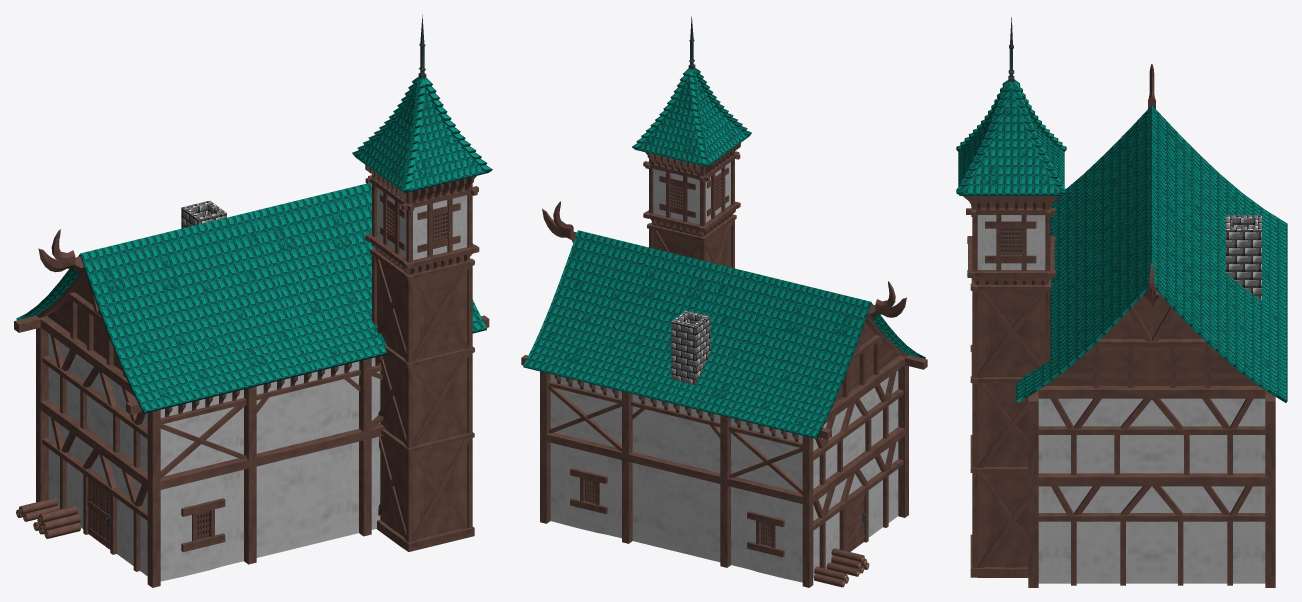
The model's file is maison5.glb.
3 renders of one model, left to right at view 1: azimuth 30°, elevation 25°; view 2: azimuth 150°, elevation 25°; view 3: azimuth 270°, elevation 25°, orthographic. The views are drawn at different scales.
Parts seen in each view (by area): view 1: Mid2; view 2: Mid2; view 3: Mid2.
Boxes of the visible parts, bbox=[...] form: Mid2: bbox=[14, 14, 492, 587]; Mid2: bbox=[521, 16, 927, 587]; Mid2: bbox=[956, 17, 1287, 587].
Size of the model in its own units: 6.67 by 7.71 by 4.24.
1 material, 1 textured.
